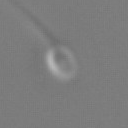normal: (8, 1, 60, 47)
